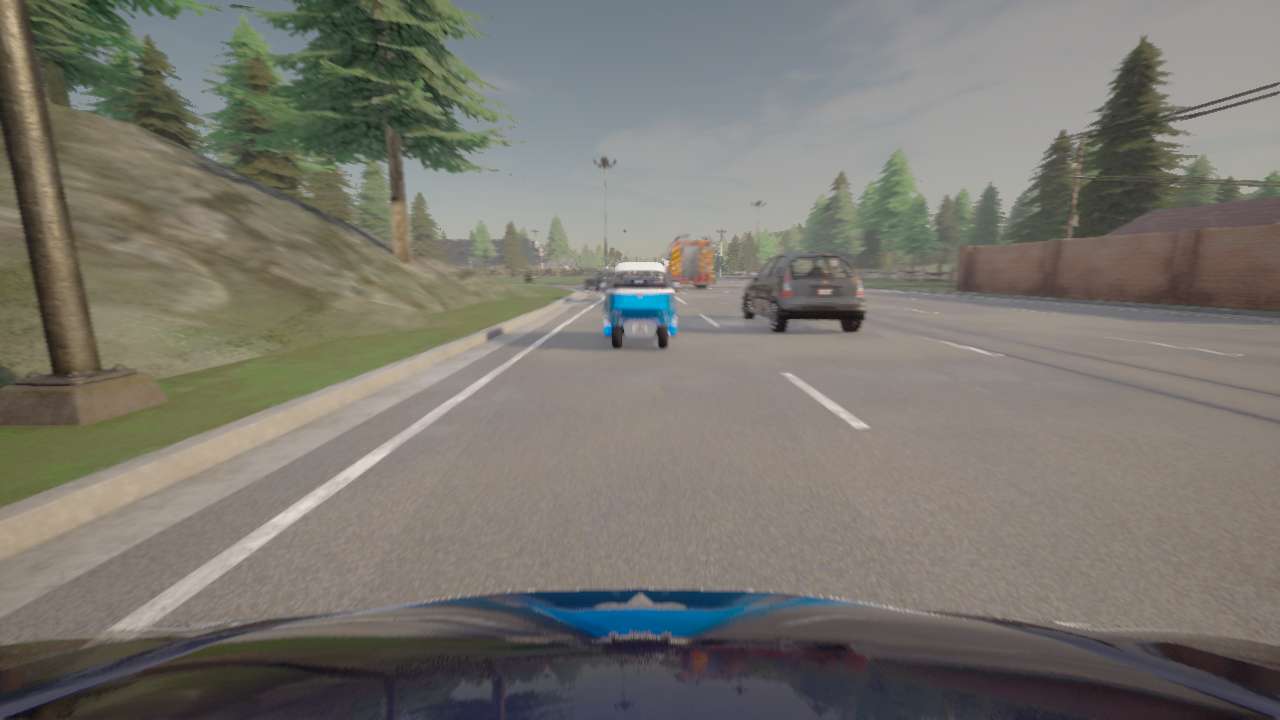cyclist: (0, 588, 1279, 719), (741, 253, 866, 332), (600, 262, 679, 349), (662, 233, 710, 288), (583, 267, 614, 290), (524, 273, 535, 284), (711, 271, 715, 283)
